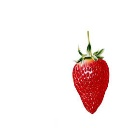strawberry: (71, 41, 110, 115)
